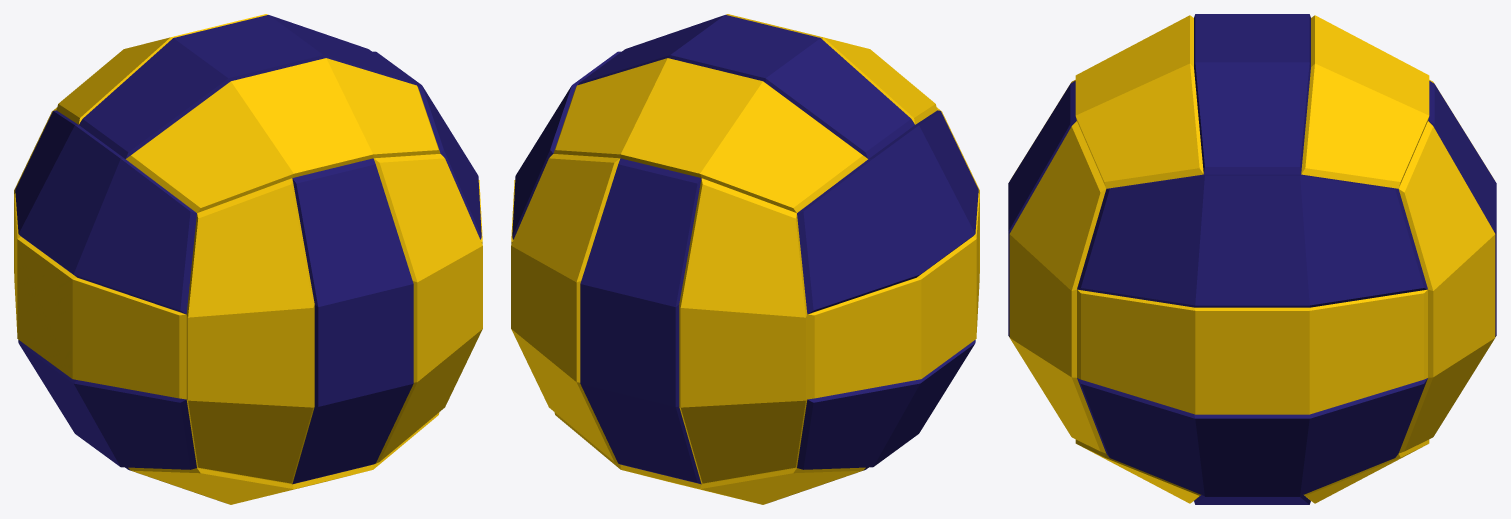
Rendered from volleyball.glb.
The picture shows the model from 3 angles, left to right: view 1: azimuth 30°, elevation 25°; view 2: azimuth 150°, elevation 25°; view 3: azimuth 270°, elevation 25°; orthographic projection. The views are drawn at different scales.
Parts seen in each view (by area): view 1: Object_3, Object_2; view 2: Object_3, Object_2; view 3: Object_3, Object_2.
Boxes of the visible parts, left/top/right/bottom form: Object_3: left=14, top=14, right=482, bottom=504; Object_2: left=15, top=15, right=481, bottom=484; Object_3: left=511, top=14, right=979, bottom=504; Object_2: left=512, top=15, right=978, bottom=484; Object_3: left=1009, top=15, right=1495, bottom=503; Object_2: left=1008, top=14, right=1496, bottom=504.
Bounding box in the file's own units: 9.65 × 9.65 × 9.65.
